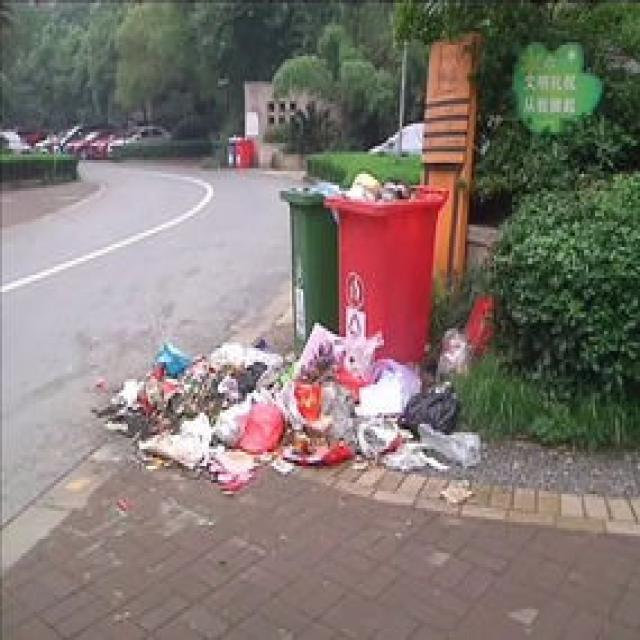garbage: (90, 289, 494, 500)
overflow: (321, 171, 447, 362), (279, 180, 339, 351)
